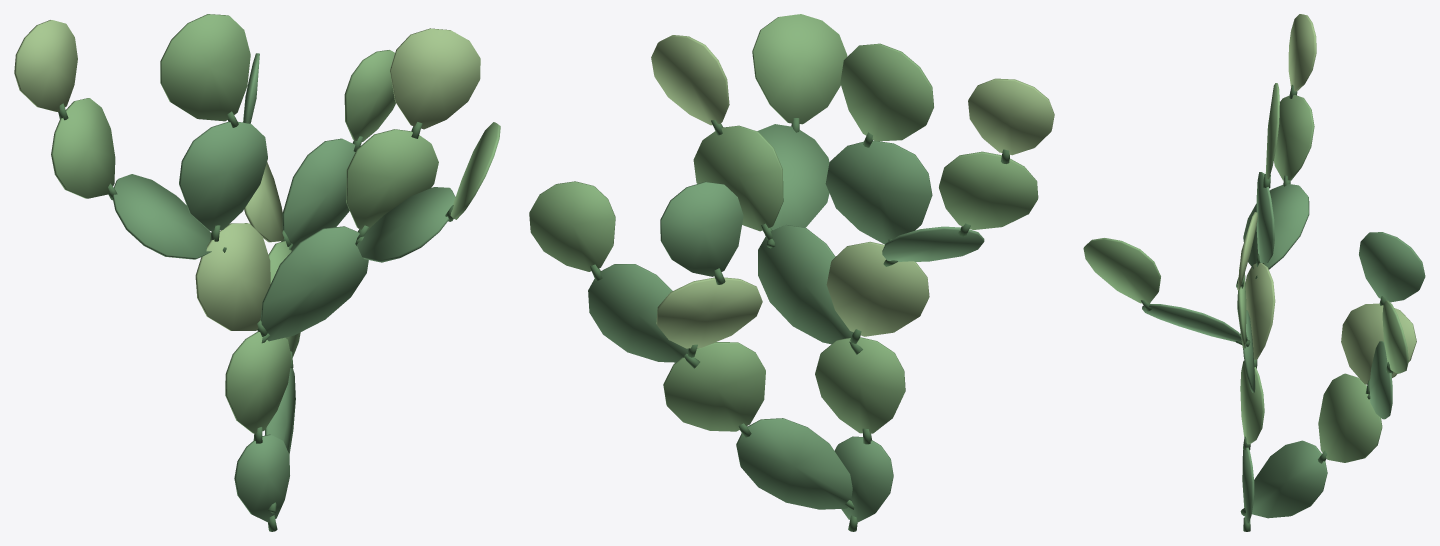
File: halimeda.glb
3 views of the same model, side by side, from view 1: azimuth 30°, elevation 25°; view 2: azimuth 150°, elevation 25°; view 3: azimuth 270°, elevation 25° (orthographic). The views are drawn at different scales.
Visible parts, largest first — view 1: calcified-fan-segments, narrow-flexible-nodes; view 2: calcified-fan-segments, narrow-flexible-nodes; view 3: calcified-fan-segments, narrow-flexible-nodes.
Part boxes in pixels (bbox=[...]): calcified-fan-segments: bbox=[14, 14, 500, 522]; narrow-flexible-nodes: bbox=[58, 103, 453, 531]; calcified-fan-segments: bbox=[529, 14, 1054, 522]; narrow-flexible-nodes: bbox=[590, 118, 1009, 531]; calcified-fan-segments: bbox=[1083, 14, 1425, 523]; narrow-flexible-nodes: bbox=[1141, 85, 1393, 531].
Size of the model in its own units: 0.1368 by 0.15 by 0.1067.
